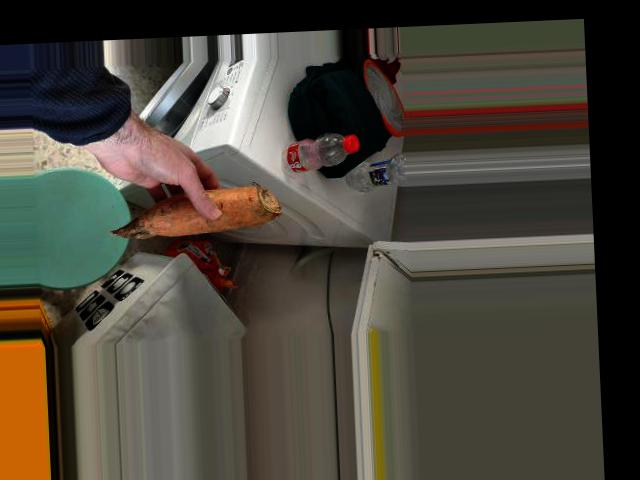sweet_potato: (112, 186, 271, 238)
